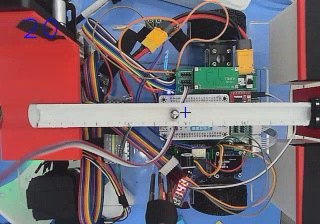ironball: (168, 108, 179, 119)
